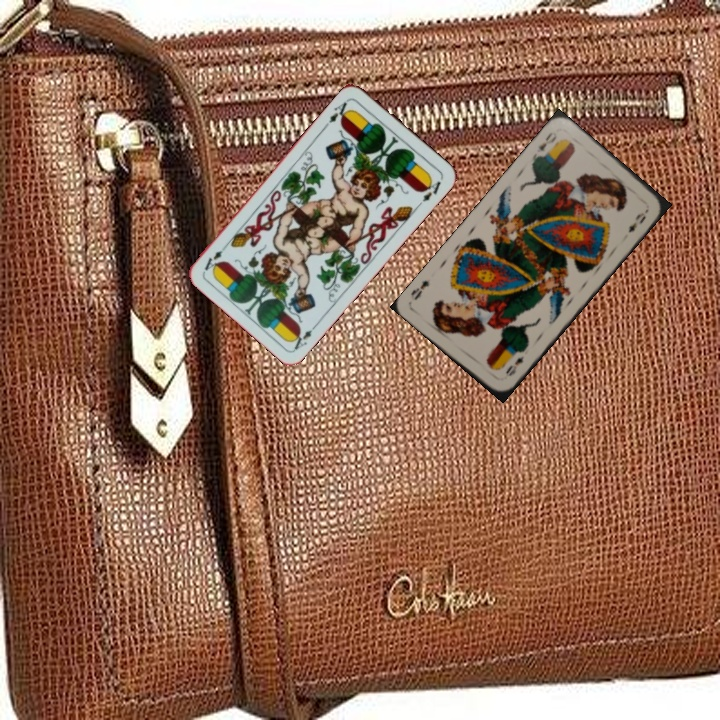EA: (287, 319, 321, 353), (325, 95, 354, 126)
EO: (529, 128, 561, 162), (501, 351, 527, 379)
